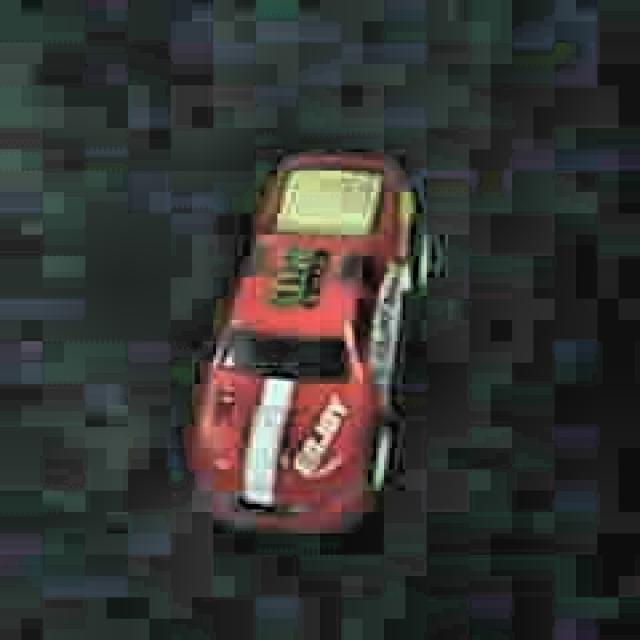car: (184, 143, 438, 543)
